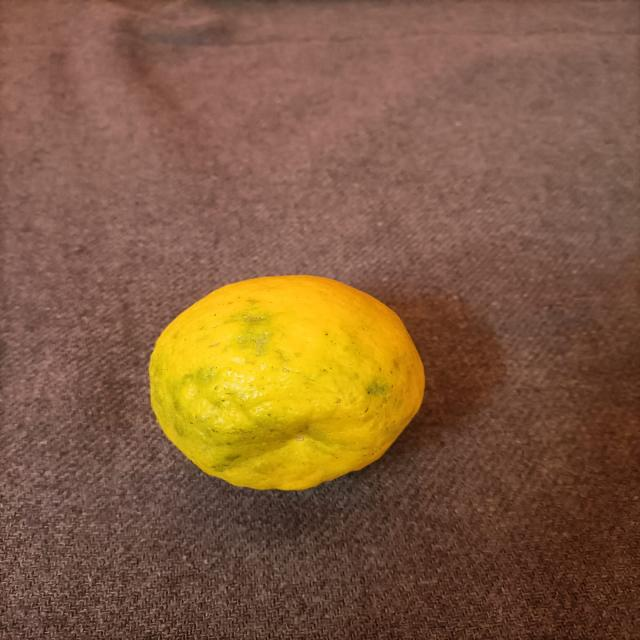orange: (89, 201, 449, 568)
